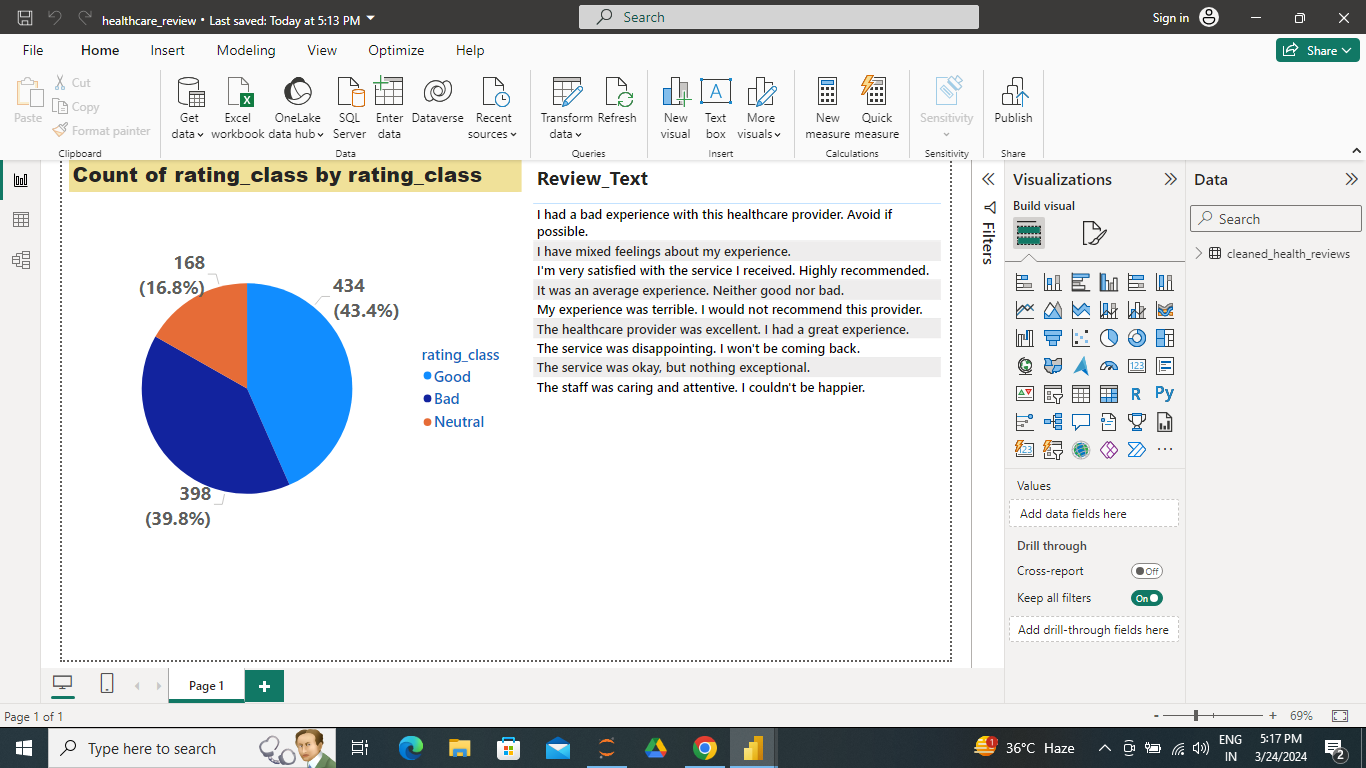

The page's visual inventory and layout, read from the dashboard file:
{"tool":"powerbi","page":{"name":"Page 1","canvas":[1280,720],"ordinal":0},"visuals":[{"type":"pieChart","fields":{"Category":["cleaned_health_reviews.rating_class"],"Y":["CountNonNull(cleaned_health_reviews.rating_class)"]},"box":[10.1,0,651.8,617],"z":0},{"type":"tableEx","fields":{"Values":["cleaned_health_reviews.Review_Text"]},"box":[671.9,0,608.1,514],"z":1000}]}

Visuals, with their boxes on the page's 1280x720 design canvas (x1, y1, x2, y2). These are canvas units, not pixel positions in the 1366x768 screenshot, which may show the page scaled, cropped or inside an application window:
pieChart - cleaned_health_reviews.rating_class x CountNonNull(cleaned_health_reviews.rating_class): {"left": 10, "top": 0, "right": 662, "bottom": 617}
tableEx - cleaned_health_reviews.Review_Text: {"left": 672, "top": 0, "right": 1280, "bottom": 514}
